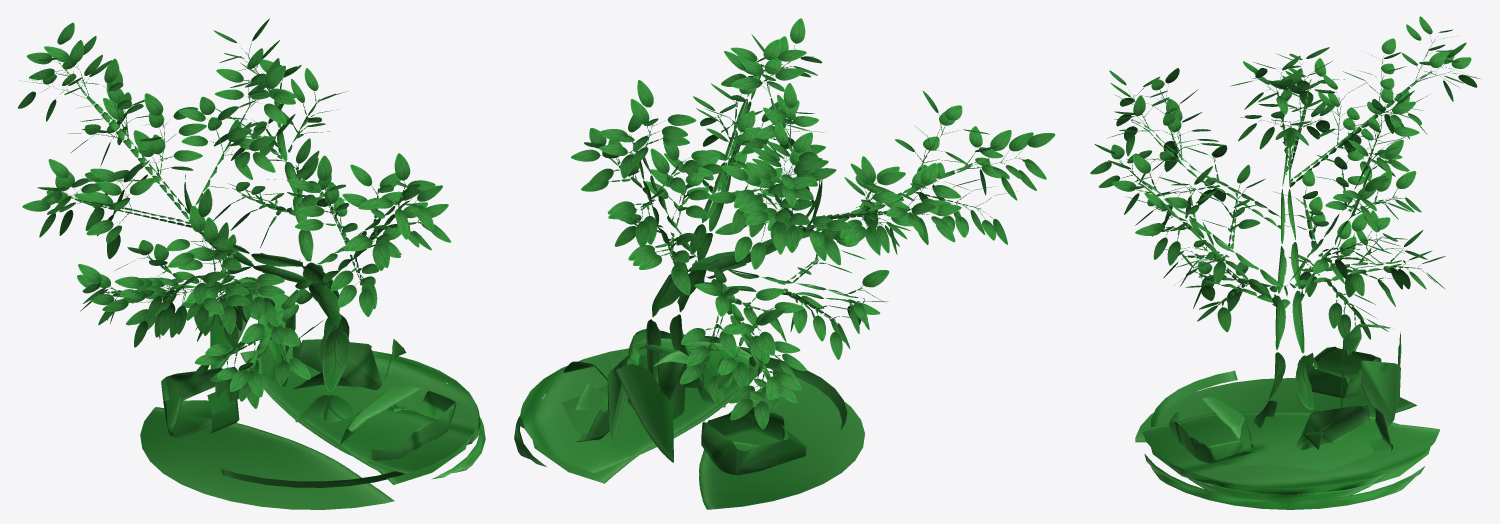
Rendered from Stylized-Tree-1.fbx.
3 views of the same model, side by side, from view 1: azimuth 30°, elevation 25°; view 2: azimuth 150°, elevation 25°; view 3: azimuth 270°, elevation 25° (orthographic). The views are drawn at different scales.
Parts seen in each view (by area): view 1: Stylized-Tree-1; view 2: Stylized-Tree-1; view 3: Stylized-Tree-1.
Boxes of the visible parts, x1,y1,x2,y2 form: Stylized-Tree-1: (18,18,485,509); Stylized-Tree-1: (514,18,1055,509); Stylized-Tree-1: (1090,16,1479,509).
Bounding box in the file's own units: 289 × 259 × 258.
Materials: 4 (4 with a texture image).
